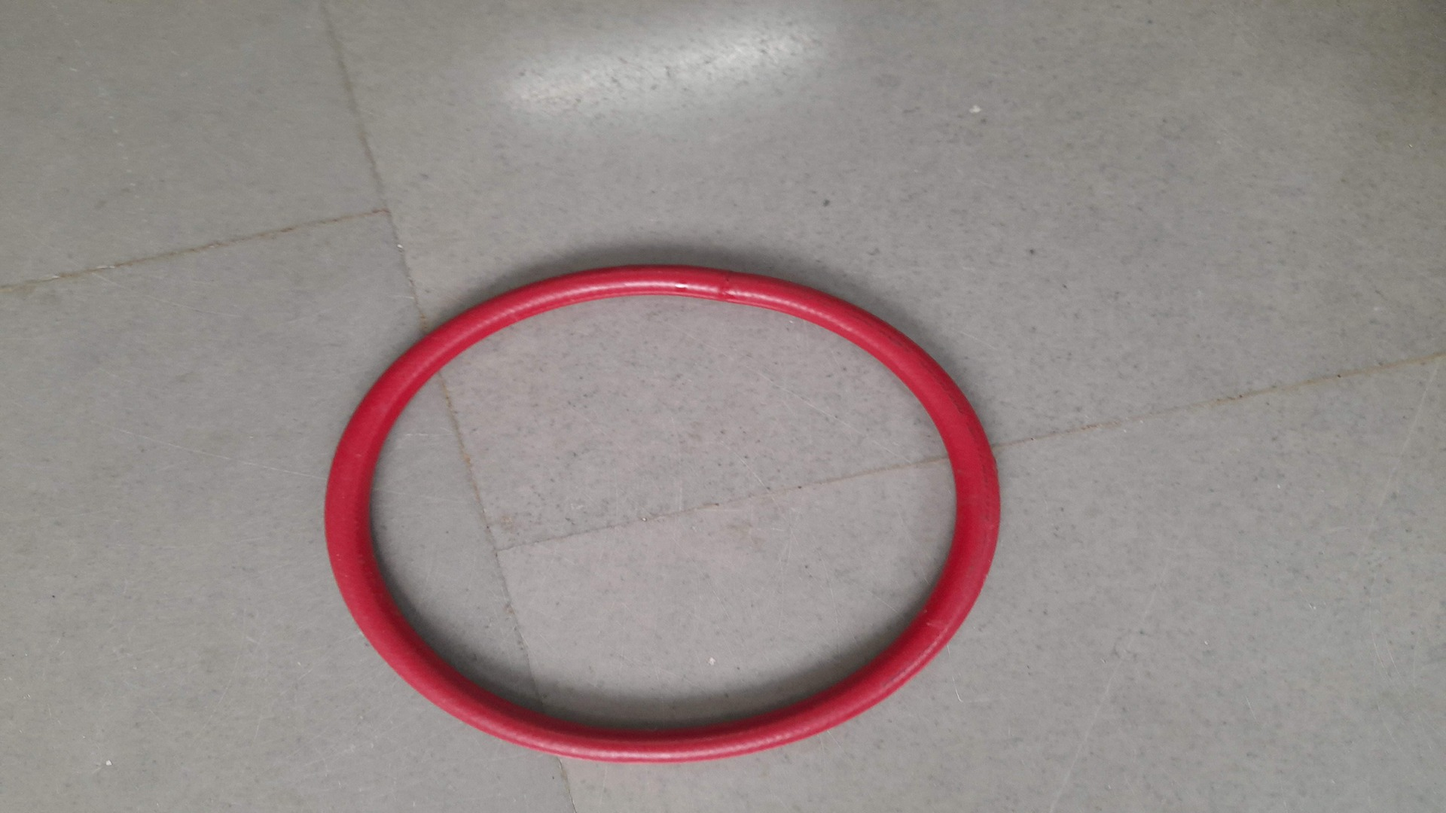Red ring: (322, 265, 1001, 763)
